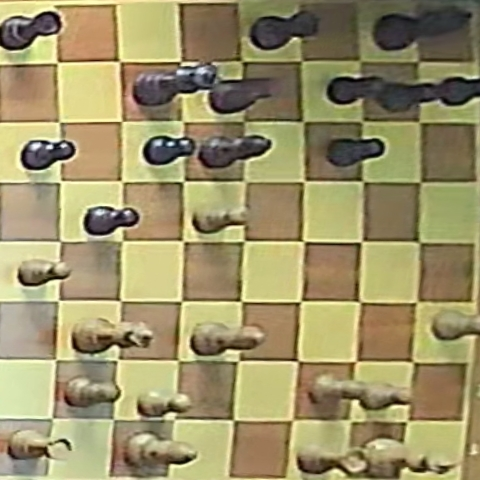black-bishop: (198, 135, 270, 168)
black-king: (375, 6, 471, 51)
black-knight: (210, 78, 276, 113)
black-pawn: (328, 75, 392, 106), (377, 80, 438, 112), (85, 204, 140, 235), (22, 139, 76, 170), (327, 138, 384, 167), (144, 136, 195, 166), (432, 75, 479, 107)
black-queen: (135, 63, 222, 106)
black-rook: (252, 10, 319, 50), (1, 11, 63, 51)
white-bishop: (124, 431, 197, 469), (194, 323, 266, 356)
white-king: (363, 438, 459, 474)
white-pawn: (309, 374, 367, 404), (353, 381, 412, 410), (65, 376, 119, 407), (194, 205, 248, 233), (18, 258, 71, 286), (137, 390, 191, 417), (433, 310, 478, 340)
white-queen: (74, 317, 151, 353)
white-rook: (297, 443, 370, 475), (8, 430, 72, 461)
